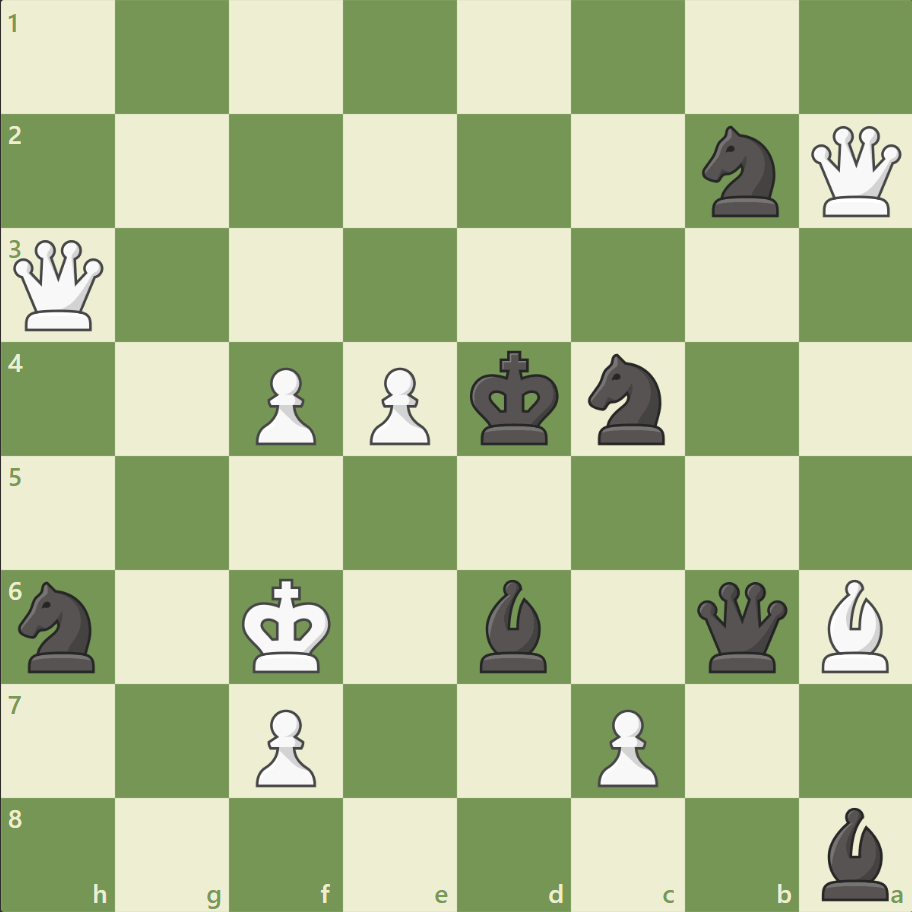B: (812, 574, 896, 676)
K: (238, 571, 338, 679)
P: (247, 700, 322, 791), (247, 359, 322, 450), (588, 700, 662, 791), (361, 359, 435, 450)
Q: (805, 122, 904, 222), (10, 236, 109, 335)
b: (812, 801, 896, 904), (471, 574, 555, 676)
k: (465, 344, 565, 452)
n: (11, 575, 108, 677), (579, 348, 676, 450), (692, 121, 789, 223)
q: (691, 576, 790, 676)
